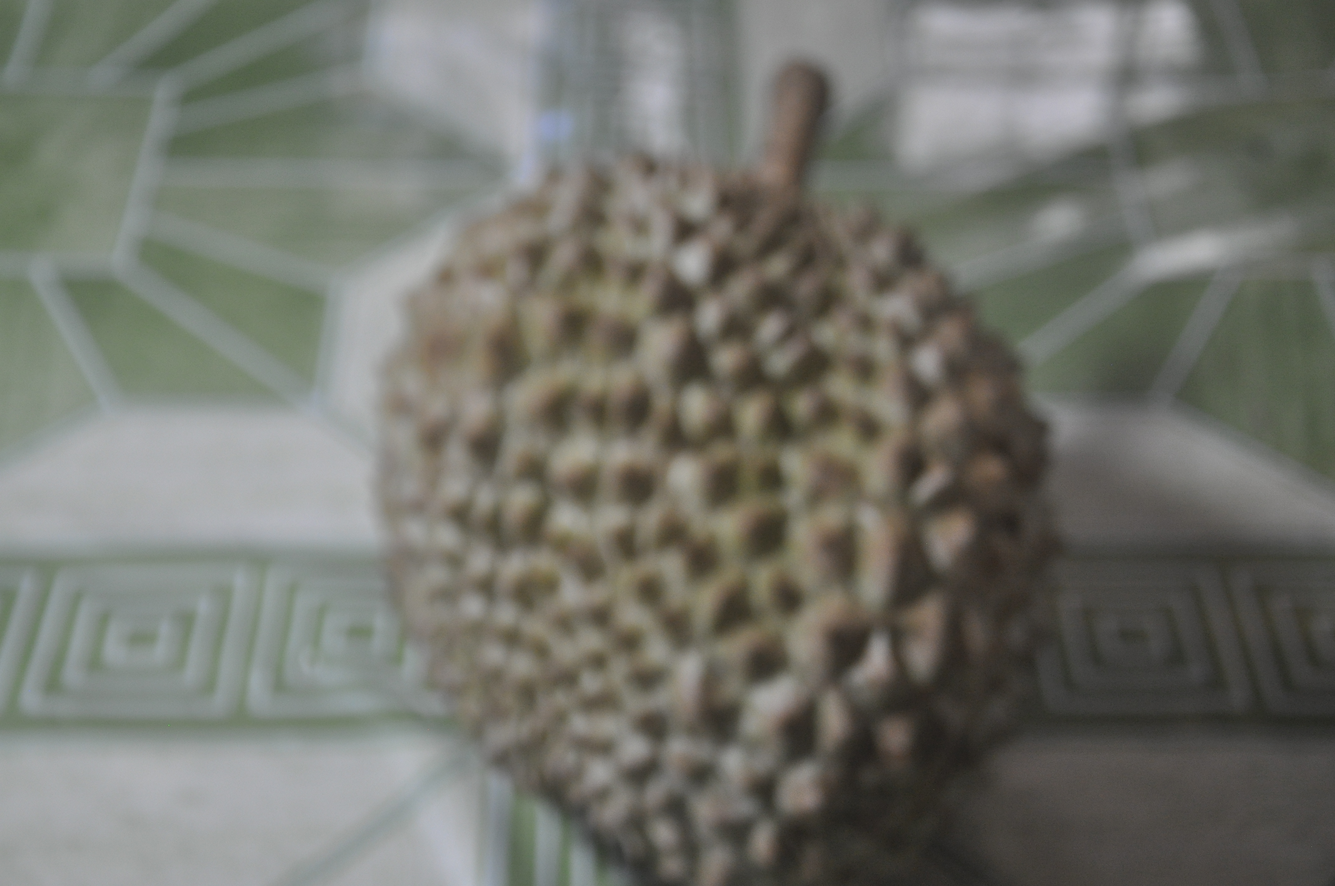mature: (380, 63, 1054, 886)
